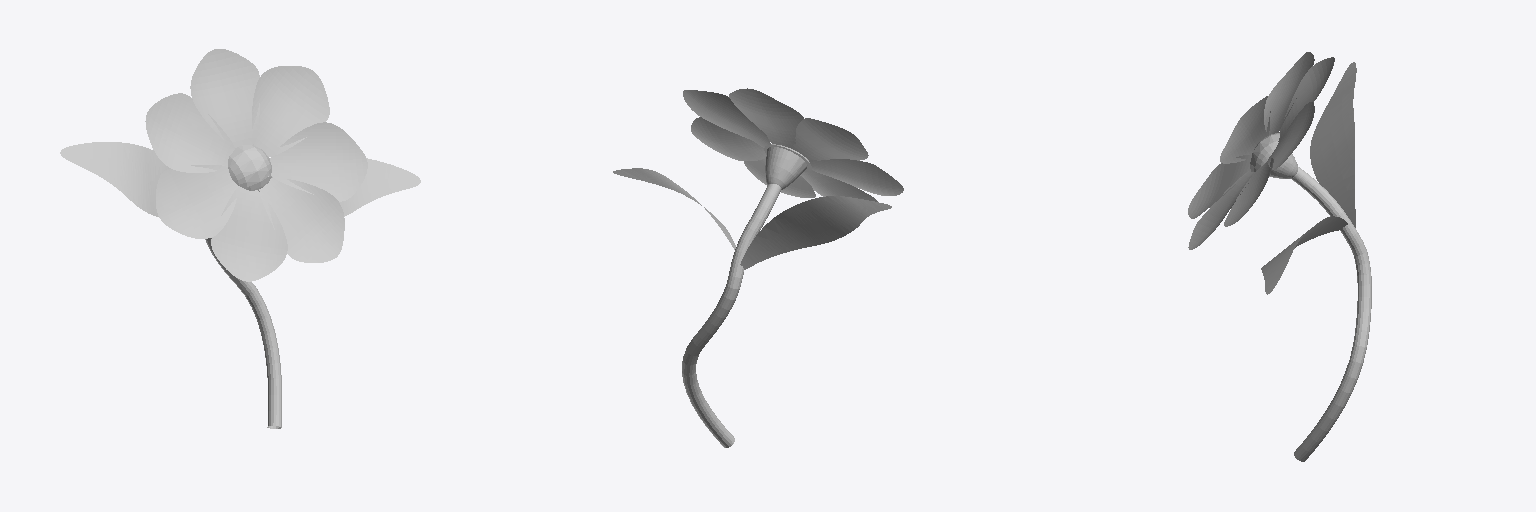
File: flower.obj
3 views of the same model, side by side, from view 1: azimuth 30°, elevation 25°; view 2: azimuth 150°, elevation 25°; view 3: azimuth 270°, elevation 25° (orthographic).
Bounding box in the file's own units: 29.95 × 34.05 × 14.94.